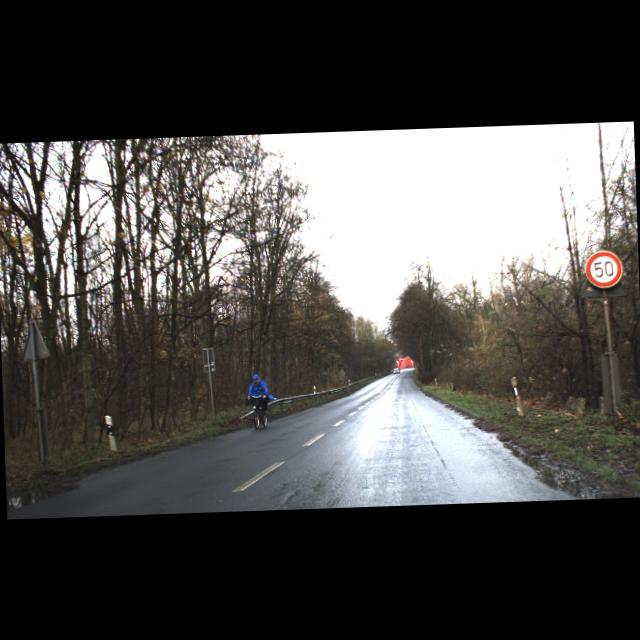prohibitory: (584, 250, 622, 288)
